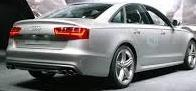Cars: (7, 4, 196, 87)
